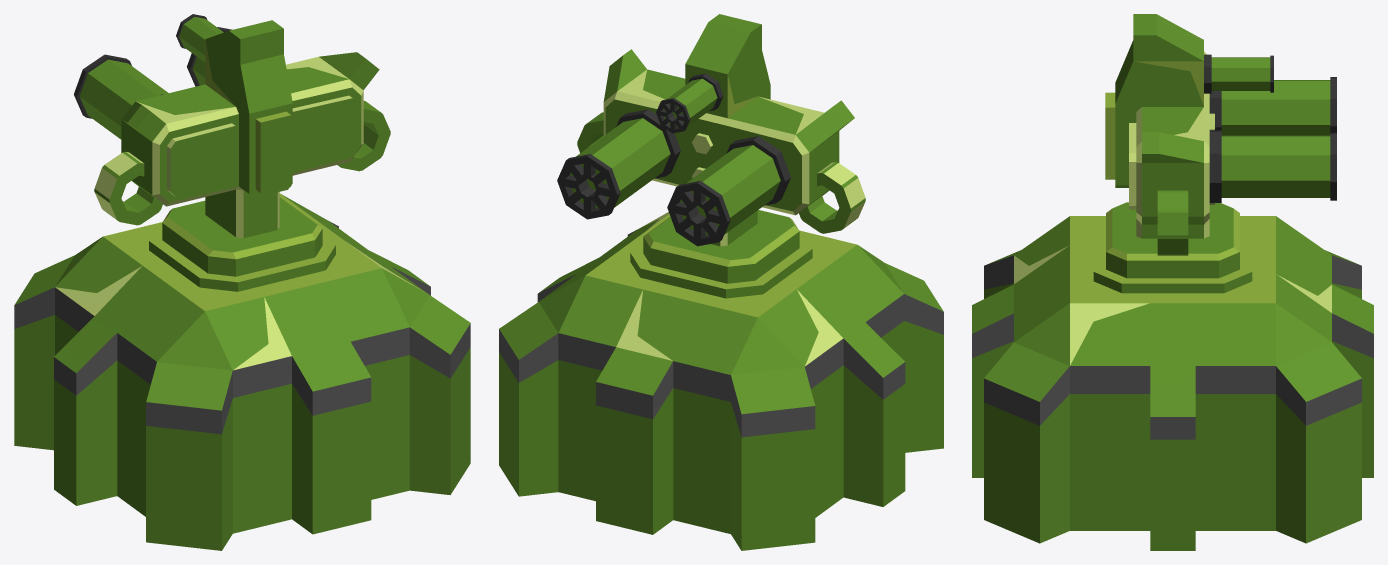
File: Green Turret.fbx
The picture shows the model from 3 angles, left to right: view 1: azimuth 30°, elevation 25°; view 2: azimuth 150°, elevation 25°; view 3: azimuth 270°, elevation 25°; orthographic projection. The views are drawn at different scales.
Visible parts, largest first — view 1: tower_gatling_green_3, top_gatling_green_3; view 2: tower_gatling_green_3, top_gatling_green_3; view 3: tower_gatling_green_3, top_gatling_green_3.
Boxes of the visible parts, left/top/right/bottom form: tower_gatling_green_3: left=14, top=193, right=470, bottom=550; top_gatling_green_3: left=74, top=14, right=390, bottom=291; tower_gatling_green_3: left=499, top=212, right=943, bottom=550; top_gatling_green_3: left=557, top=14, right=865, bottom=298; tower_gatling_green_3: left=972, top=216, right=1373, bottom=550; top_gatling_green_3: left=1093, top=14, right=1336, bottom=293.
Bounding box in the file's own units: 5.54 × 6.49 × 5.39.
1 material, 1 textured.
